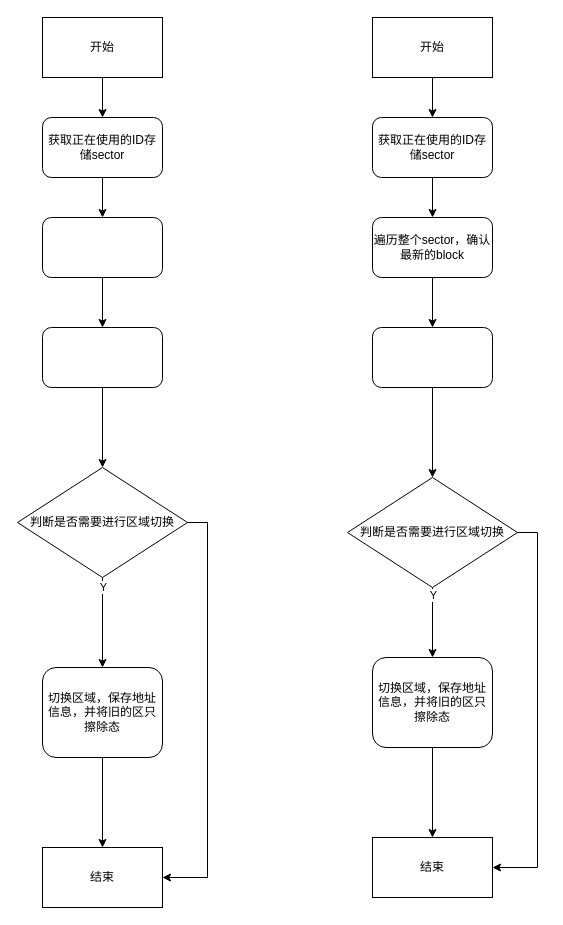
Some shapes in this 563 by 925 pixel diagram are drawn without their labels. The shapes that lost their labels are listed below. From the top down, each one's centre as x and y in pixels, then its label:
At point 102,247: "遍历整个sector，确认 空闲的block".
At point 102,357: "往block写ID信息".
At point 432,357: "从block读ID信息".
